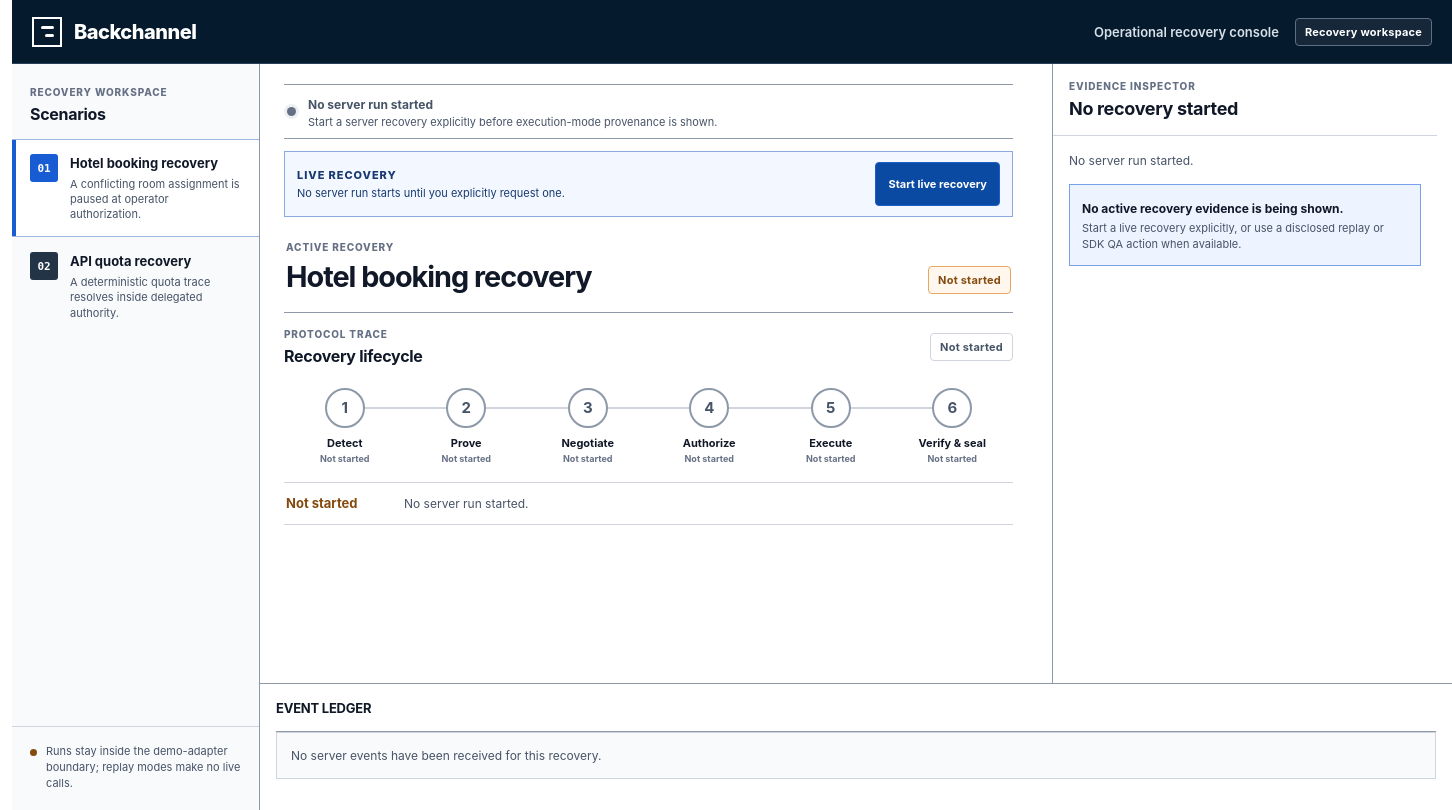
Scenario: responsive operational console accessibility › keeps the six lifecycle stages ordered with an explicit current step
Click the button "Start live recovery" at x=938, y=184, box [876,162,1000,206]
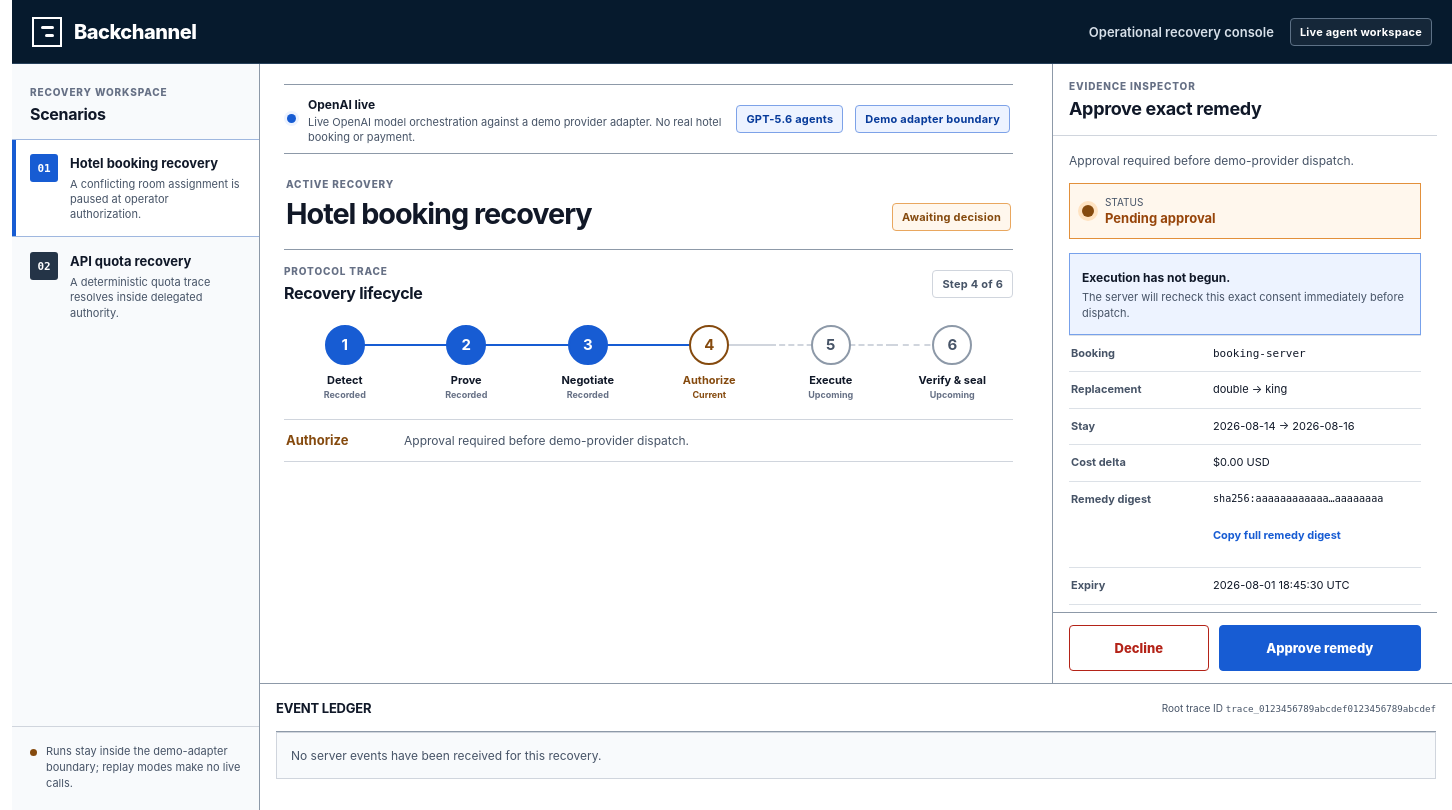
expect the list item "4 Authorize Current" is shown: met, box [648,325,770,401]
expect the text "GPT-5.6 agents" is shown: met, box [736,105,843,133]
